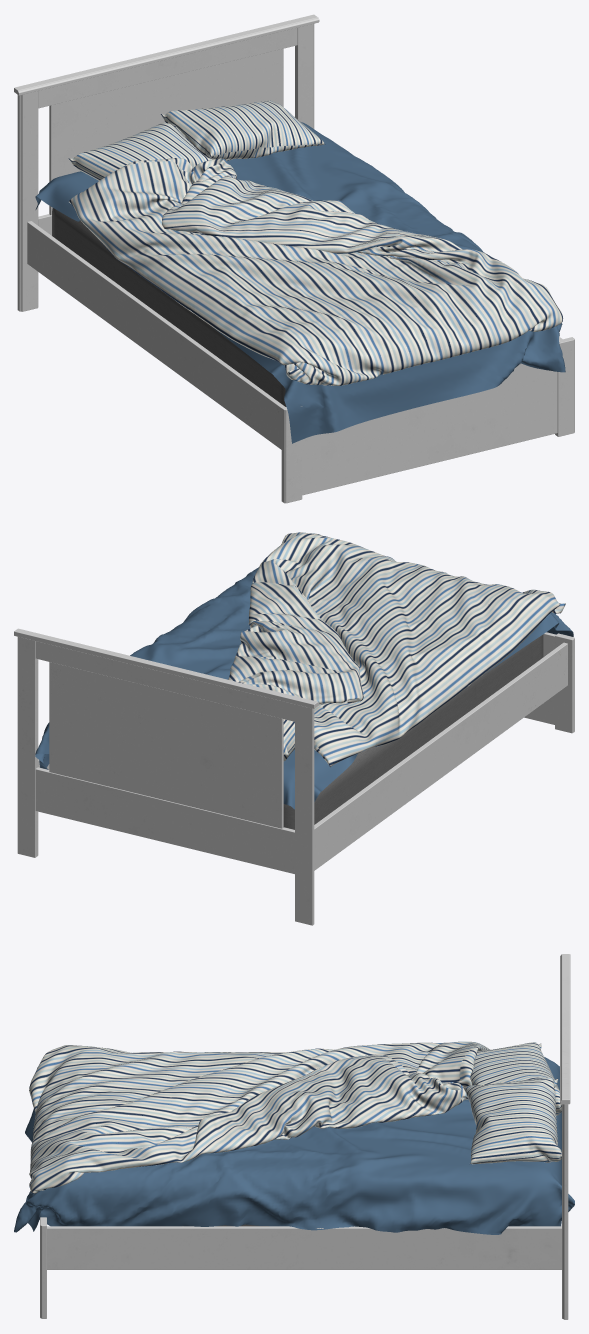
The model's file is bed.glb.
3 renders of one model, top to bottom at view 1: azimuth 30°, elevation 25°; view 2: azimuth 150°, elevation 25°; view 3: azimuth 270°, elevation 25°, orthographic.
Parts seen in each view (by area): view 1: Duvet, Bed, Sheet, Matress, Pillow_1, Pillow_2; view 2: Bed, Duvet, Sheet, Matress; view 3: Sheet, Duvet, Bed, Pillow_1, Pillow_2.
Part boxes in pixels (x1,y1,x2,y2): Duvet: (68, 158, 563, 385); Bed: (14, 14, 574, 503); Sheet: (35, 121, 565, 443); Matress: (52, 208, 286, 406); Pillow_1: (161, 100, 325, 159); Pillow_2: (68, 122, 232, 180); Bed: (14, 628, 574, 925); Duvet: (228, 532, 565, 767); Sheet: (35, 567, 573, 809); Matress: (283, 634, 543, 829); Sheet: (14, 1057, 574, 1234); Duvet: (29, 1041, 490, 1193); Bed: (40, 954, 570, 1319); Pillow_1: (463, 1077, 561, 1164); Pillow_2: (470, 1042, 561, 1115).
Bounding box in the file's own units: 134 × 95 × 218.
Materials: 6 (6 with a texture image).
